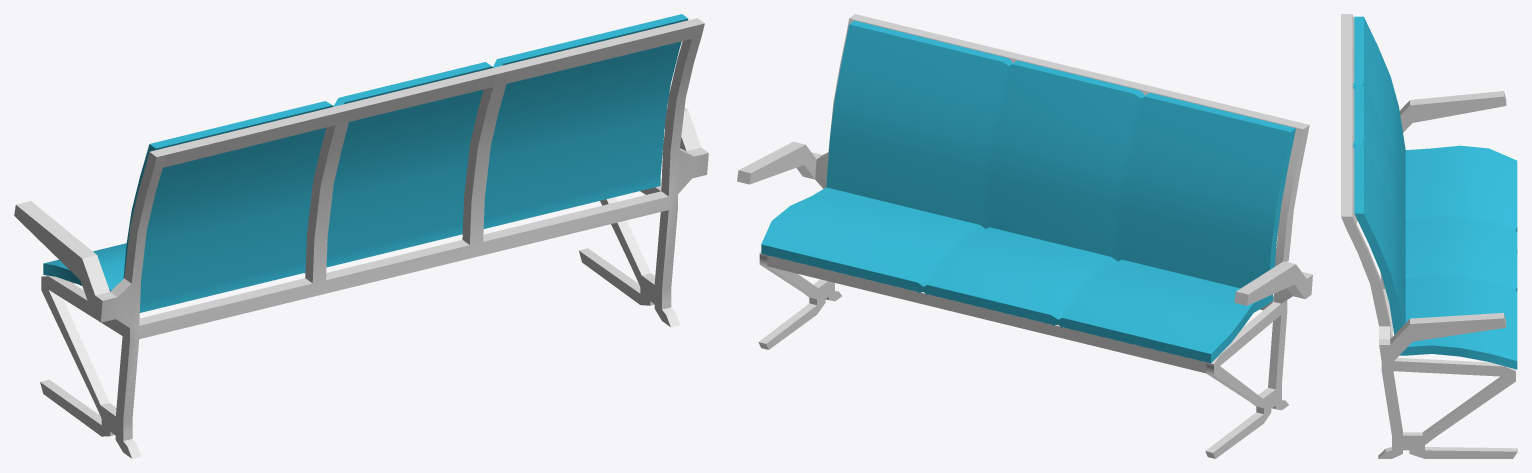
Rendered from Banca_1.fbx.
3 renders of one model, left to right at view 1: azimuth 30°, elevation 25°; view 2: azimuth 150°, elevation 25°; view 3: azimuth 270°, elevation 25°, orthographic. The views are drawn at different scales.
Visible parts, largest first — view 1: pCube3; view 2: pCube3; view 3: pCube3.
Boxes of the visible parts, x1,y1,x2,y2 form: pCube3: (14, 14, 708, 458); pCube3: (737, 14, 1312, 458); pCube3: (1341, 14, 1517, 458).
Bounding box in the file's own units: 2.74 × 1.36 × 0.9019.
